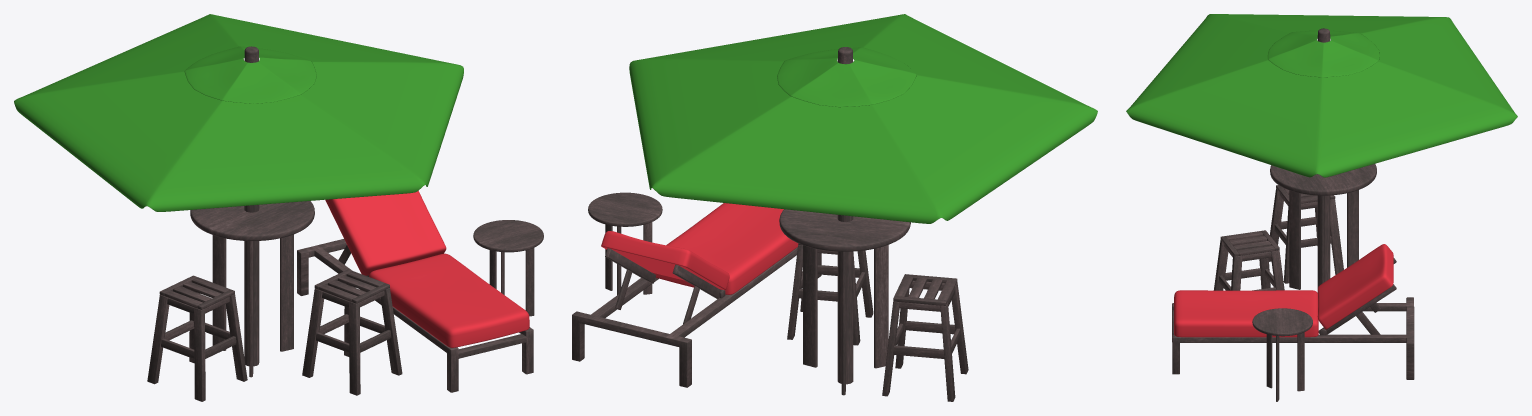
Rendered from BeachTable.glb.
3 views of the same model, side by side, from view 1: azimuth 30°, elevation 25°; view 2: azimuth 150°, elevation 25°; view 3: azimuth 270°, elevation 25° (orthographic). The views are drawn at different scales.
Visible parts, largest first — view 1: Umbrella, Subed, Umbrella_Table, Stool.001, Stool, Sunbed_Frame, Side_Table, Umbrella_Frame; view 2: Umbrella, Subed, Umbrella_Table, Sunbed_Frame, Stool.001, Side_Table, Stool, Umbrella_Frame; view 3: Umbrella, Subed, Umbrella_Table, Sunbed_Frame, Stool, Side_Table, Stool.001, Umbrella_Frame.
Part boxes in pixels (left/top/right/bottom): Umbrella: left=14, top=14, right=463, bottom=211; Subed: left=325, top=191, right=529, bottom=347; Umbrella_Table: left=190, top=201, right=314, bottom=377; Stool.001: left=147, top=275, right=247, bottom=401; Stool: left=302, top=269, right=402, bottom=395; Sunbed_Frame: left=297, top=239, right=533, bottom=392; Side_Table: left=473, top=220, right=543, bottom=316; Umbrella_Frame: left=243, top=46, right=259, bottom=366; Umbrella: left=629, top=14, right=1097, bottom=223; Subed: left=601, top=203, right=798, bottom=294; Umbrella_Table: left=779, top=209, right=910, bottom=395; Sunbed_Frame: left=572, top=247, right=821, bottom=387; Stool.001: left=882, top=274, right=968, bottom=401; Side_Table: left=588, top=192, right=662, bottom=294; Stool: left=787, top=243, right=873, bottom=345; Umbrella_Frame: left=837, top=47, right=853, bottom=384; Umbrella: left=1126, top=14, right=1517, bottom=177; Subed: left=1174, top=244, right=1393, bottom=337; Umbrella_Table: left=1270, top=164, right=1376, bottom=289; Sunbed_Frame: left=1172, top=258, right=1414, bottom=379; Stool: left=1213, top=230, right=1284, bottom=290; Side_Table: left=1252, top=308, right=1312, bottom=401; Stool.001: left=1268, top=185, right=1343, bottom=283; Umbrella_Frame: left=1317, top=28, right=1330, bottom=292.
Bounding box in the file's own units: 3.94 × 2.71 × 3.57.
4 materials, 2 textured.
